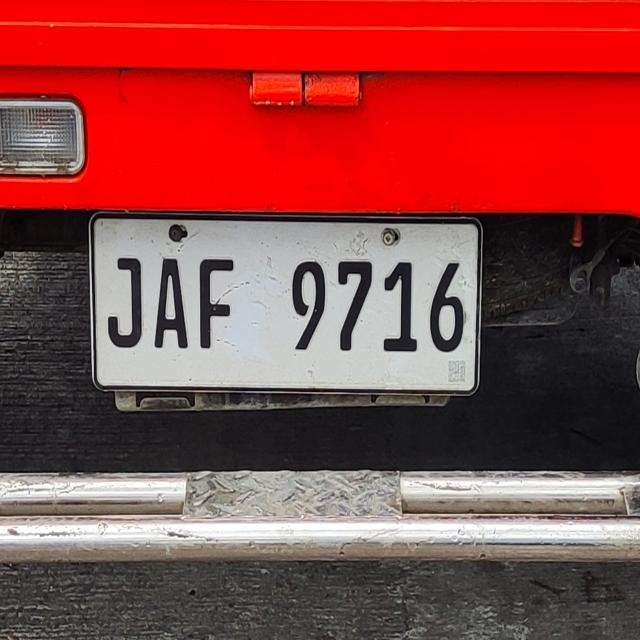plate: (86, 209, 484, 398)
